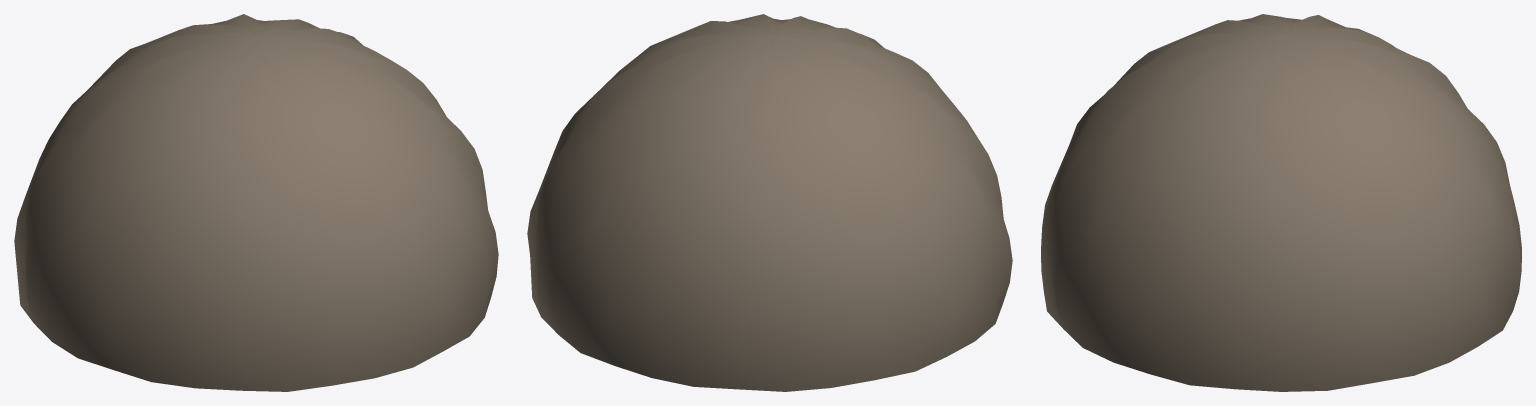
File: afro.glb
The picture shows the model from 3 angles, left to right: view 1: azimuth 30°, elevation 25°; view 2: azimuth 150°, elevation 25°; view 3: azimuth 270°, elevation 25°; orthographic projection.
Visible parts, largest first — view 1: Hair_afro; view 2: Hair_afro; view 3: Hair_afro.
Boxes of the visible parts, x1,y1,x2,y2 form: Hair_afro: (14,14,498,391); Hair_afro: (527,14,1012,391); Hair_afro: (1041,14,1521,391).
Bounding box in the file's own units: 4.05 × 2.39 × 4.05.
